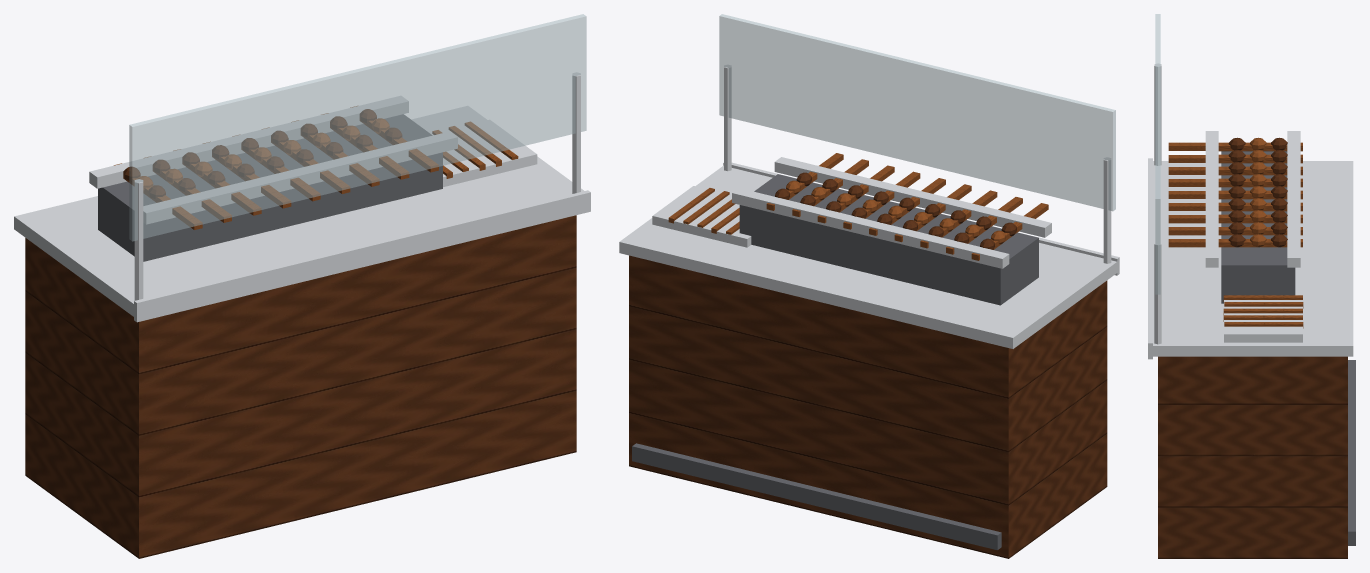
The model's file is skewer_grill_counter.glb.
The picture shows the model from 3 angles, left to right: view 1: azimuth 30°, elevation 25°; view 2: azimuth 150°, elevation 25°; view 3: azimuth 270°, elevation 25°; orthographic projection. The views are drawn at different scales.
Visible parts, largest first — view 1: skewer-grill-counter-darkwood, skewer-grill-counter-glass, skewer-grill-counter-steel, skewer-grill-counter-charcoal, skewer-grill-counter-timber; view 2: skewer-grill-counter-darkwood, skewer-grill-counter-glass, skewer-grill-counter-steel, skewer-grill-counter-charcoal, skewer-grill-counter-timber; view 3: skewer-grill-counter-darkwood, skewer-grill-counter-steel, skewer-grill-counter-timber, skewer-grill-counter-charcoal, skewer-grill-counter-glass.
Boxes of the visible parts, x1,y1,x2,y2 form: skewer-grill-counter-darkwood: (25,109,576,558); skewer-grill-counter-glass: (129,14,586,241); skewer-grill-counter-steel: (14,72,590,322); skewer-grill-counter-charcoal: (98,114,442,261); skewer-grill-counter-timber: (114,106,518,229); skewer-grill-counter-darkwood: (629,172,1107,558); skewer-grill-counter-glass: (719,14,1115,211); skewer-grill-counter-steel: (619,64,1119,348); skewer-grill-counter-charcoal: (632,174,1038,550); skewer-grill-counter-timber: (668,153,1048,260); skewer-grill-counter-darkwood: (1158,137,1347,558); skewer-grill-counter-steel: (1148,63,1353,359); skewer-grill-counter-timber: (1168,137,1303,328); skewer-grill-counter-charcoal: (1221,151,1355,545); skewer-grill-counter-glass: (1155,14,1160,294).
Bounding box in the file's own units: 1.66 × 1.52 × 0.788.
6 materials, 2 textured.
